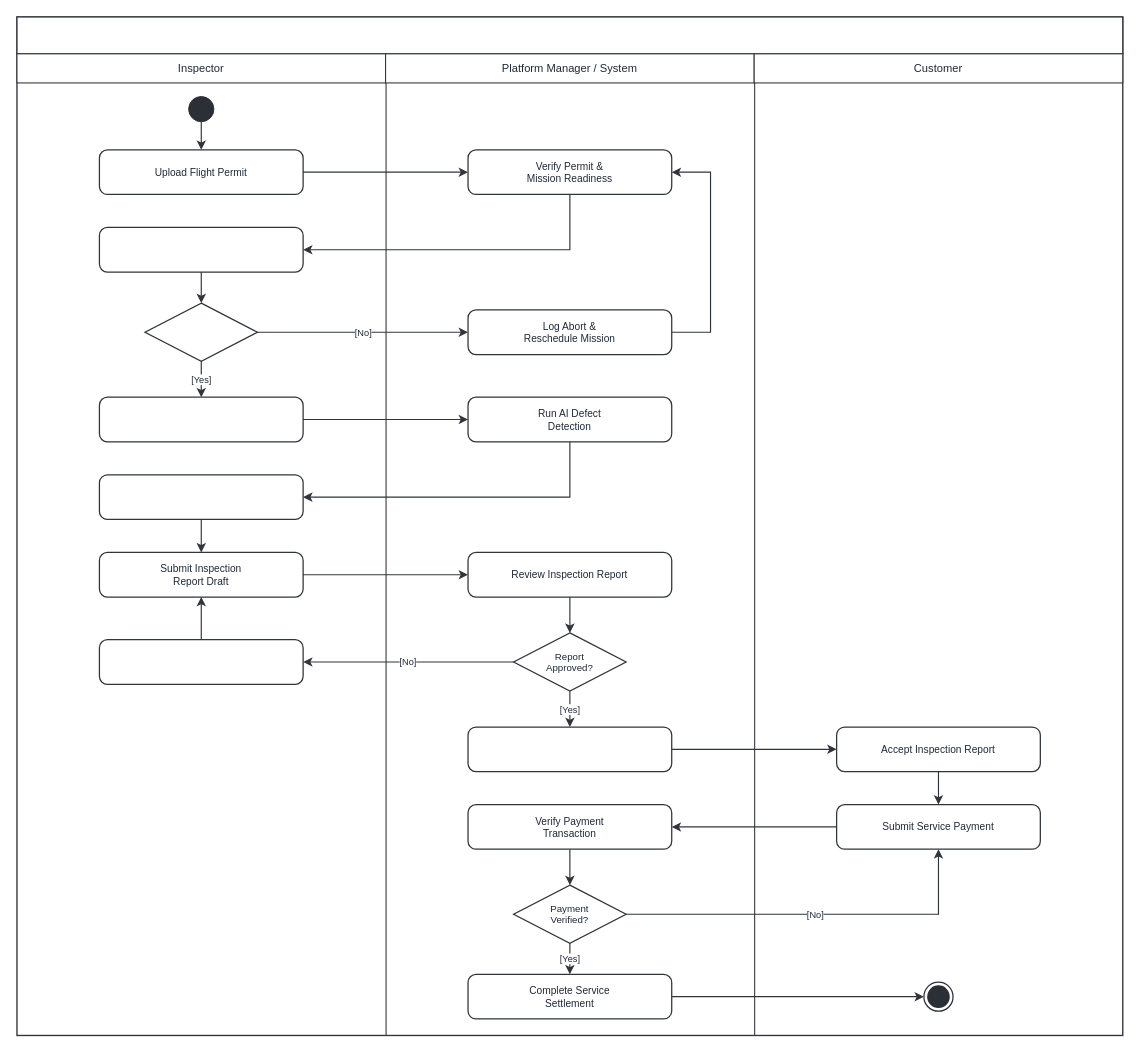
This 1141x1053 diagram has some shape labels left out. The centre of each missing label's shape, as x and y in pixels:
Complete Pre-Flight Checklist & Start Flight: pixel 200 249
Confirm Defect Findings: pixel 200 497
Flight Completed?: pixel 201 332
Publish Signed PDF Report: pixel 569 749
Revise Returned Inspection Report: pixel 200 662
Upload Flight Photos & Video Evidence: pixel 200 419
WF-03: Flight Inspection, Report & Settlement: pixel 569 35
